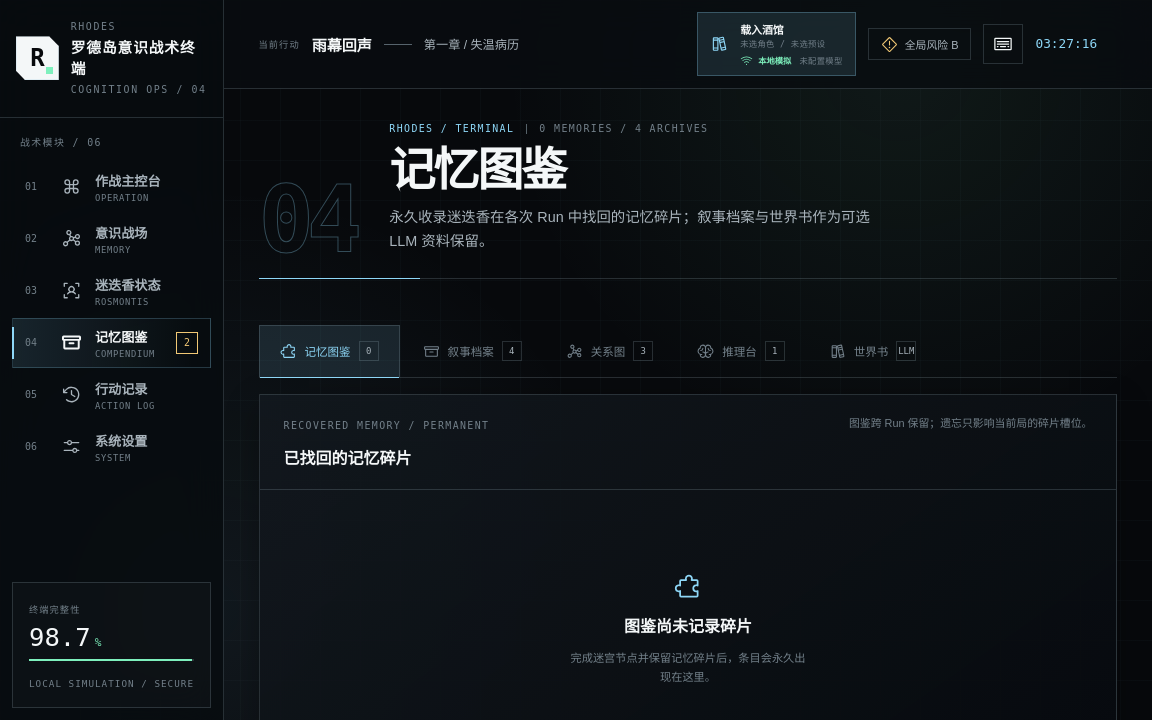
Scenario: builds a hypothesis from pinned evidence and exposes conflicts
Click the tab "叙事档案 4".
click(472, 351)  # box [402,325,543,377]
(page scrolled)
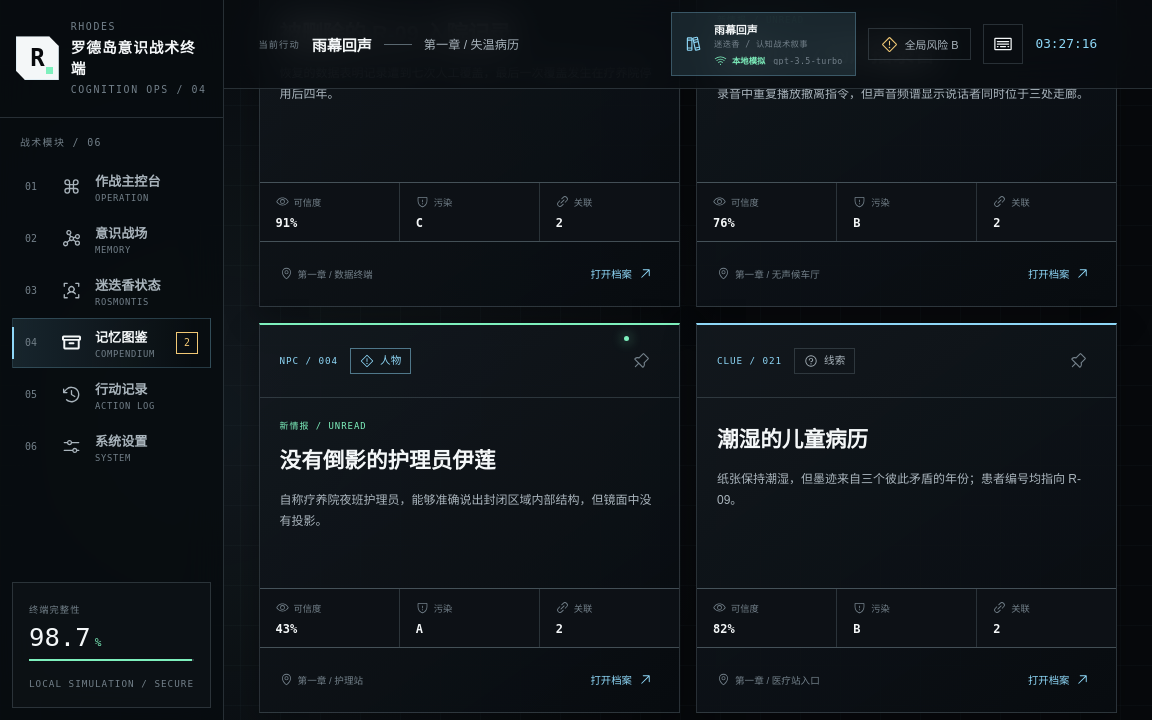
Click the button named "钉选潮湿的儿童病历".
click(1078, 361)  # box [1060,341,1096,381]
(page scrolled)
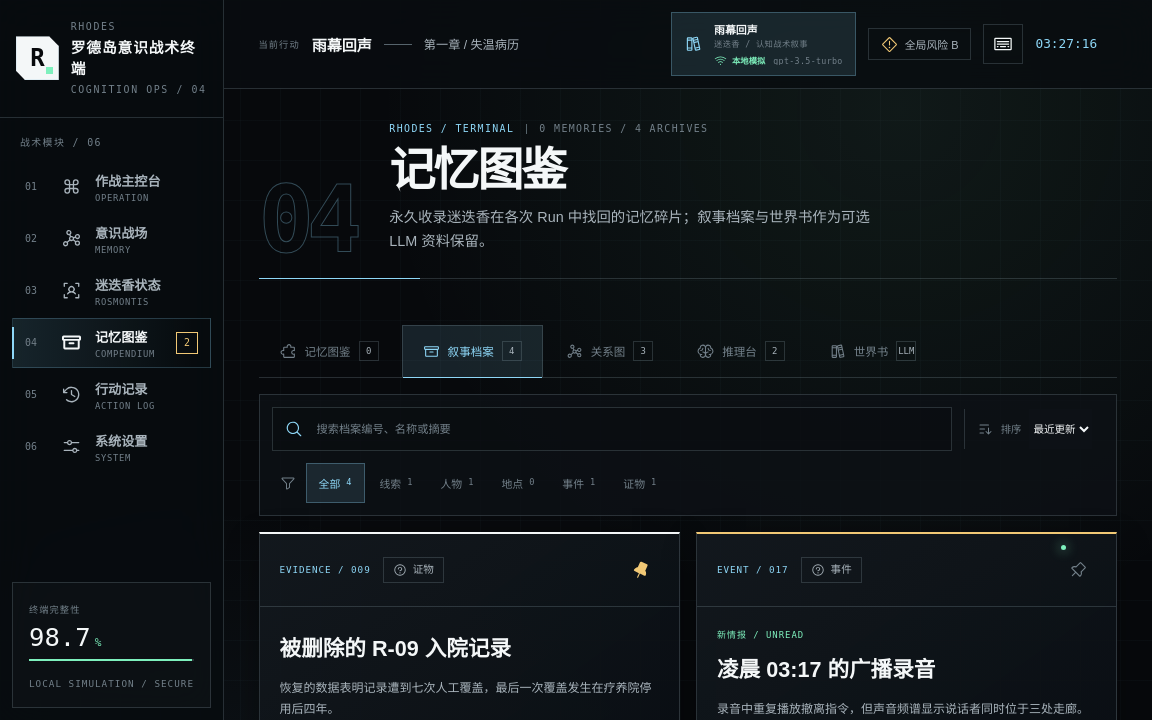
Click the tab "推理台 2".
click(741, 351)  # box [676,325,806,377]
(page scrolled)
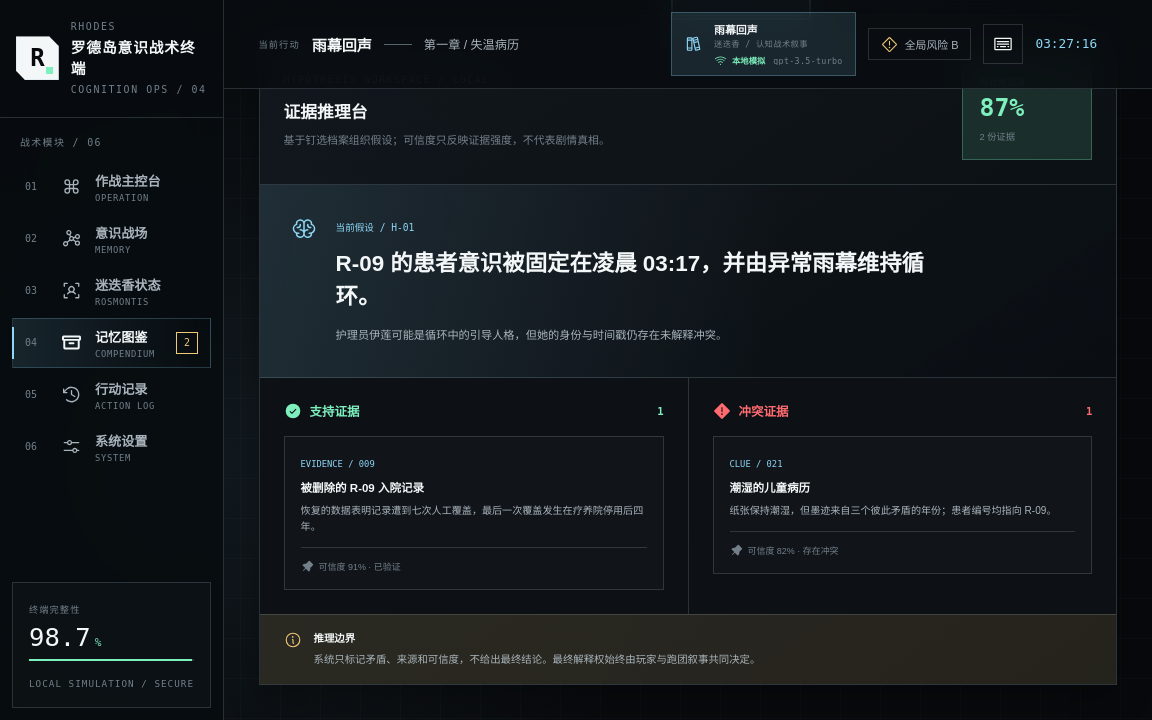
Expected: the heading "支持证据" is shown, [310,402,359,420]
Expected: the heading "冲突证据" is shown, [738,402,788,420]
